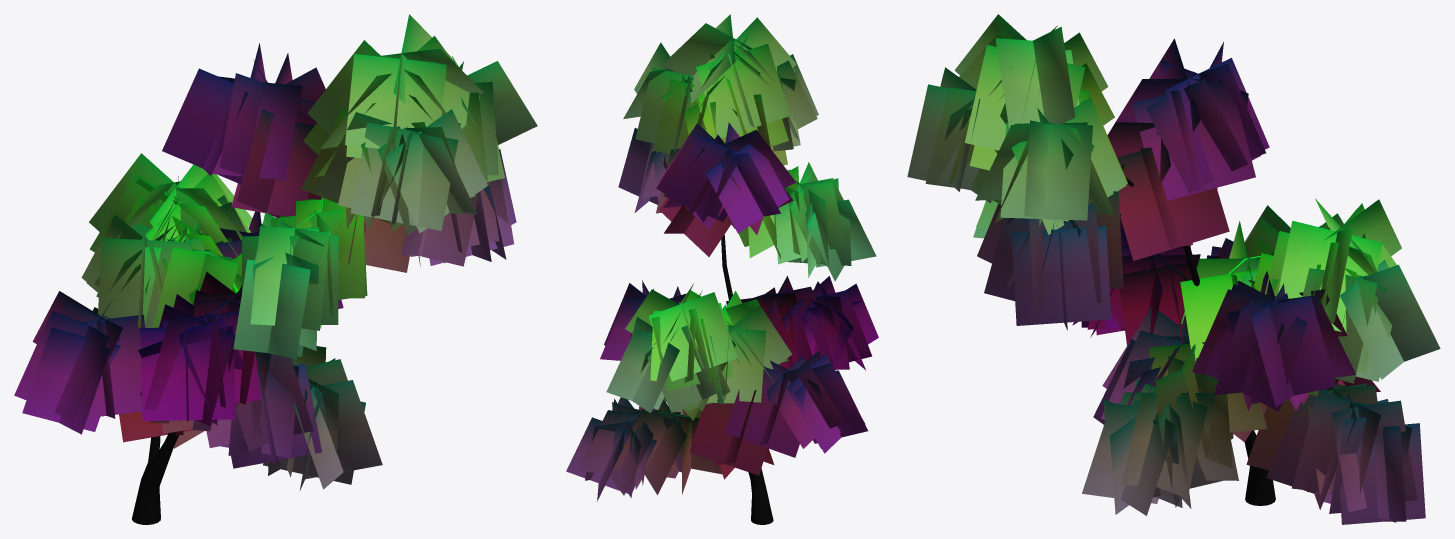
The model's file is URP_P13_Tree_8_LOD_1.fbx.
3 views of the same model, side by side, from view 1: azimuth 30°, elevation 25°; view 2: azimuth 150°, elevation 25°; view 3: azimuth 270°, elevation 25° (orthographic). The views are drawn at different scales.
Parts seen in each view (by area): view 1: Tree_8_LOD_1; view 2: Tree_8_LOD_1; view 3: Tree_8_LOD_1.
Part boxes in pixels (box(x1,y1,x2,y2)): Tree_8_LOD_1: box(14, 14, 537, 524); Tree_8_LOD_1: box(566, 14, 878, 524); Tree_8_LOD_1: box(907, 14, 1440, 524).
Size of the model in its own units: 542 by 671 by 580.
